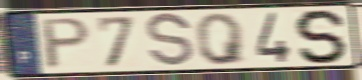4: (255, 11, 293, 64)
7: (96, 14, 139, 70)
P: (41, 15, 93, 72)
Q: (193, 11, 249, 67)
S: (293, 7, 351, 65), (145, 10, 196, 70)
